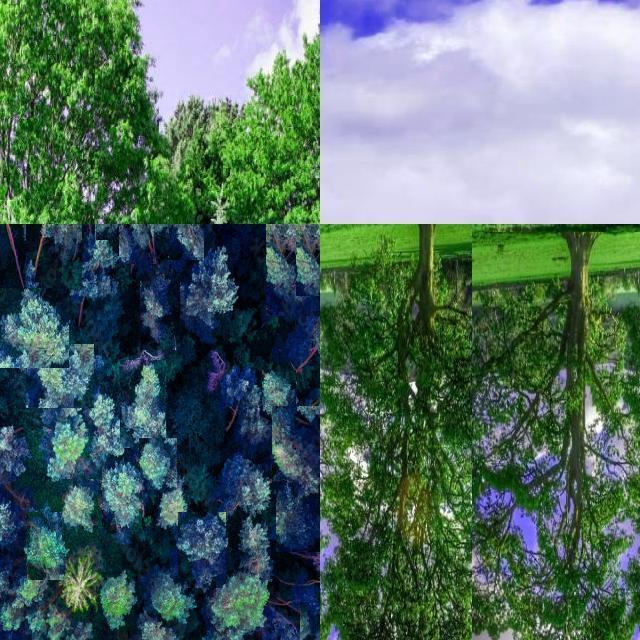tree: (456, 232, 640, 640), (320, 224, 472, 640), (0, 0, 152, 224), (214, 0, 320, 224), (210, 526, 274, 632), (0, 288, 69, 368), (266, 224, 320, 316), (70, 224, 120, 322), (26, 344, 94, 408), (188, 243, 238, 329), (272, 406, 320, 494), (120, 360, 166, 448), (26, 224, 82, 290), (178, 512, 226, 588), (219, 358, 261, 438), (88, 383, 124, 472), (276, 480, 320, 552), (140, 274, 180, 350), (62, 545, 104, 617), (220, 458, 270, 516), (102, 462, 142, 534), (284, 301, 320, 377), (146, 566, 194, 622), (46, 416, 86, 482), (608, 293, 640, 375), (27, 512, 65, 580), (62, 479, 98, 541), (100, 572, 136, 632), (119, 224, 169, 264), (139, 438, 177, 490), (155, 479, 187, 533), (296, 224, 320, 296), (262, 370, 296, 420), (0, 224, 26, 288), (280, 568, 316, 614), (160, 224, 204, 260), (296, 406, 320, 468), (284, 223, 320, 260), (118, 620, 174, 640), (292, 224, 320, 260), (300, 602, 320, 640), (95, 224, 135, 240), (215, 630, 263, 640), (302, 224, 320, 250)
